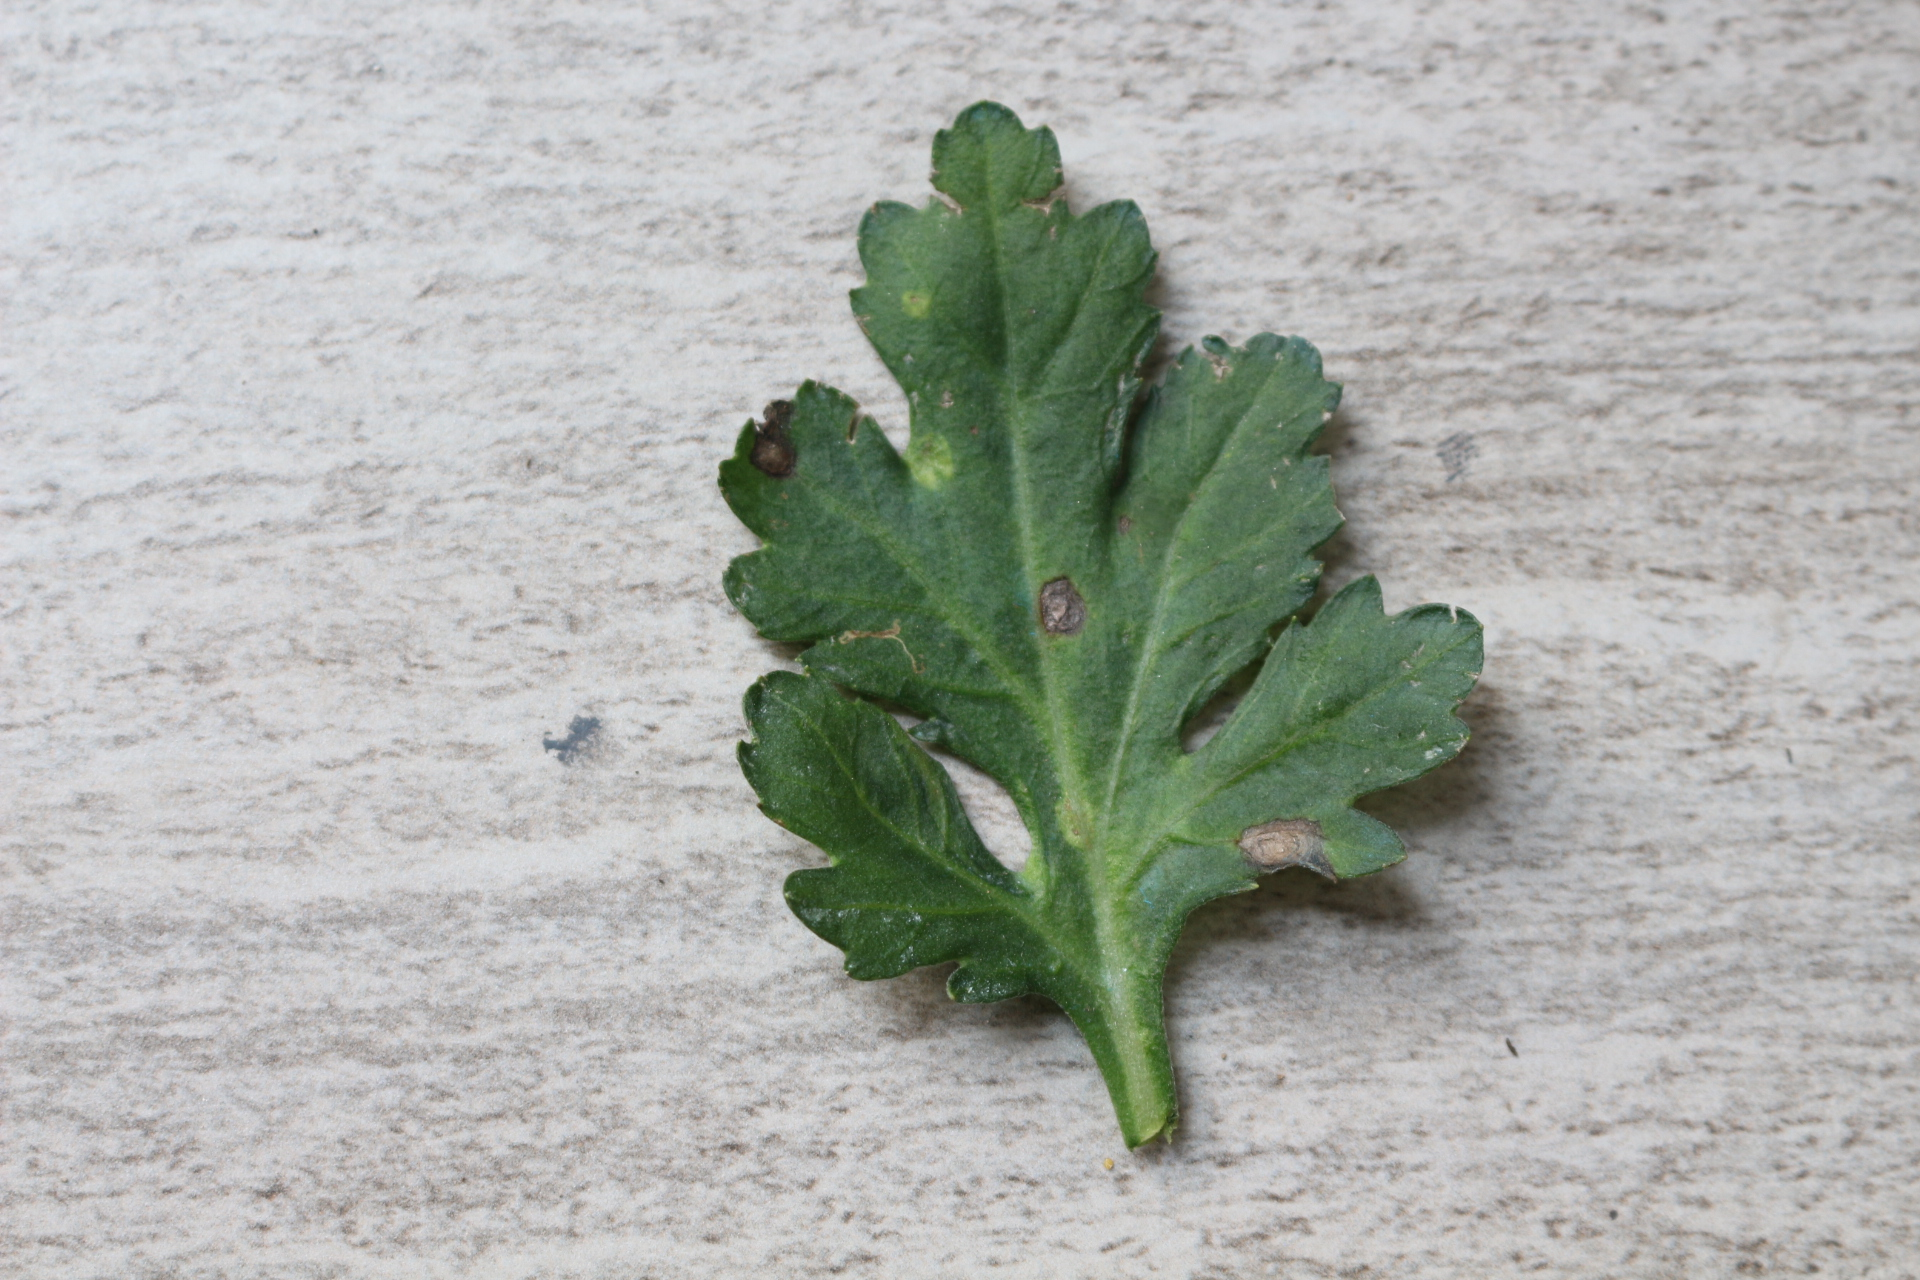namden: (1237, 811, 1330, 881), (1029, 573, 1093, 639), (743, 417, 806, 474)
namsung: (909, 431, 954, 486), (903, 287, 931, 323)
